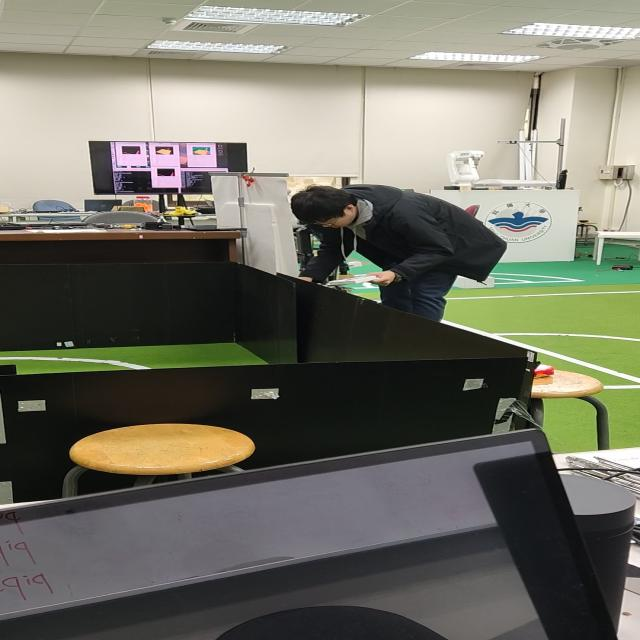person: (284, 174, 526, 324)
